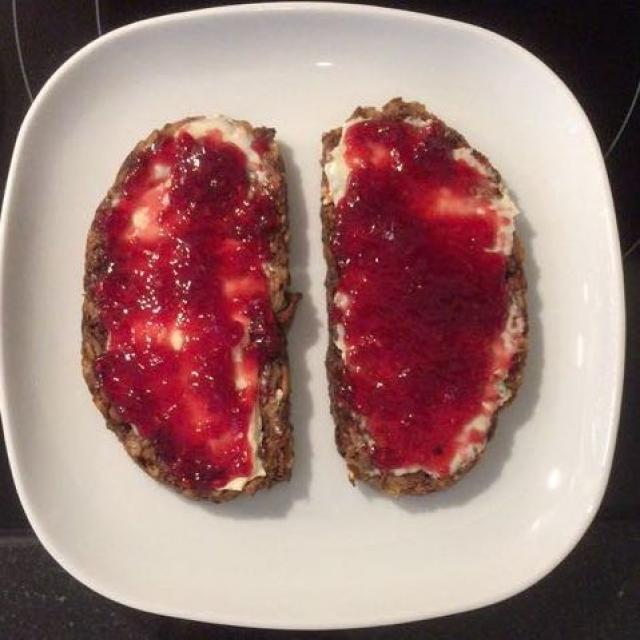bread: (304, 92, 547, 508), (76, 98, 306, 510)
jam: (338, 130, 484, 447), (137, 153, 261, 470)
